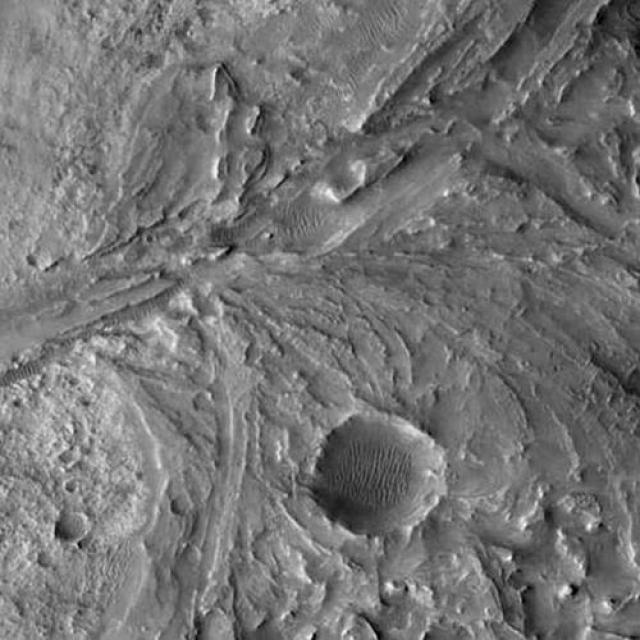crater: (304, 408, 456, 546), (0, 176, 41, 258), (534, 0, 586, 26)
